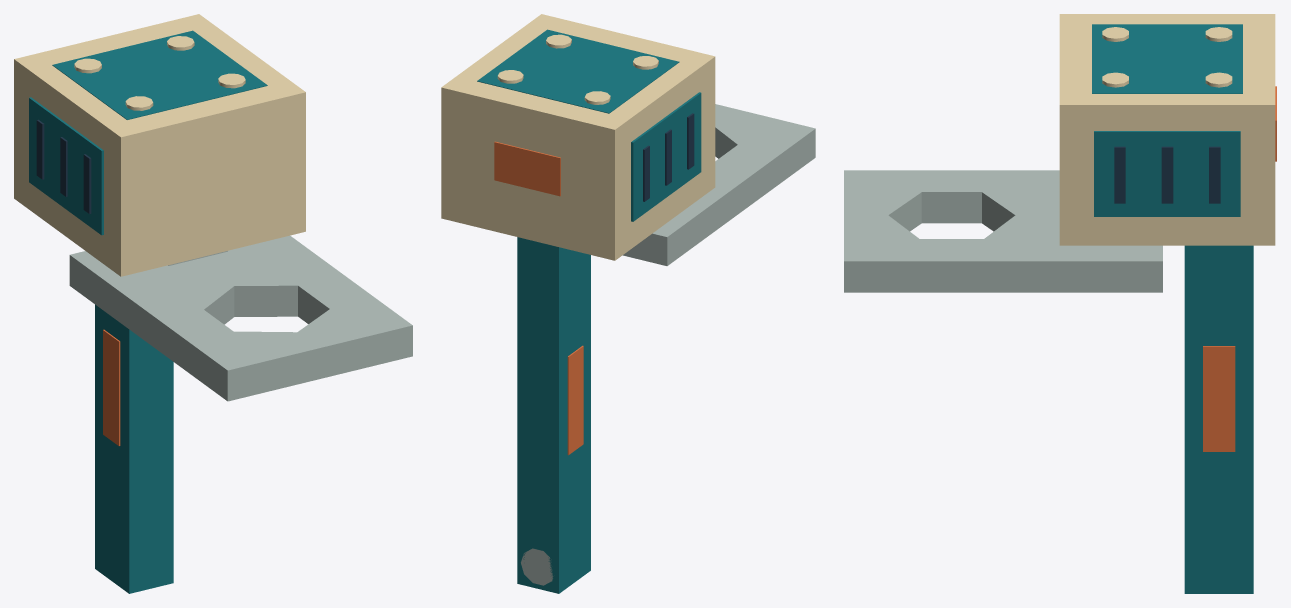
The model's file is engine-lod-2.glb.
3 renders of one model, left to right at view 1: azimuth 30°, elevation 25°; view 2: azimuth 150°, elevation 25°; view 3: azimuth 270°, elevation 25°, orthographic. The views are drawn at different scales.
Parts seen in each view (by area): view 1: engine_lod_2; view 2: engine_lod_2; view 3: engine_lod_2.
Boxes of the visible parts, box(x1,y1,x2,y2) form: engine_lod_2: box(14, 14, 412, 593); engine_lod_2: box(441, 14, 815, 593); engine_lod_2: box(844, 14, 1276, 593).
Size of the model in its own units: 1.05 by 2.7 by 2.01.
